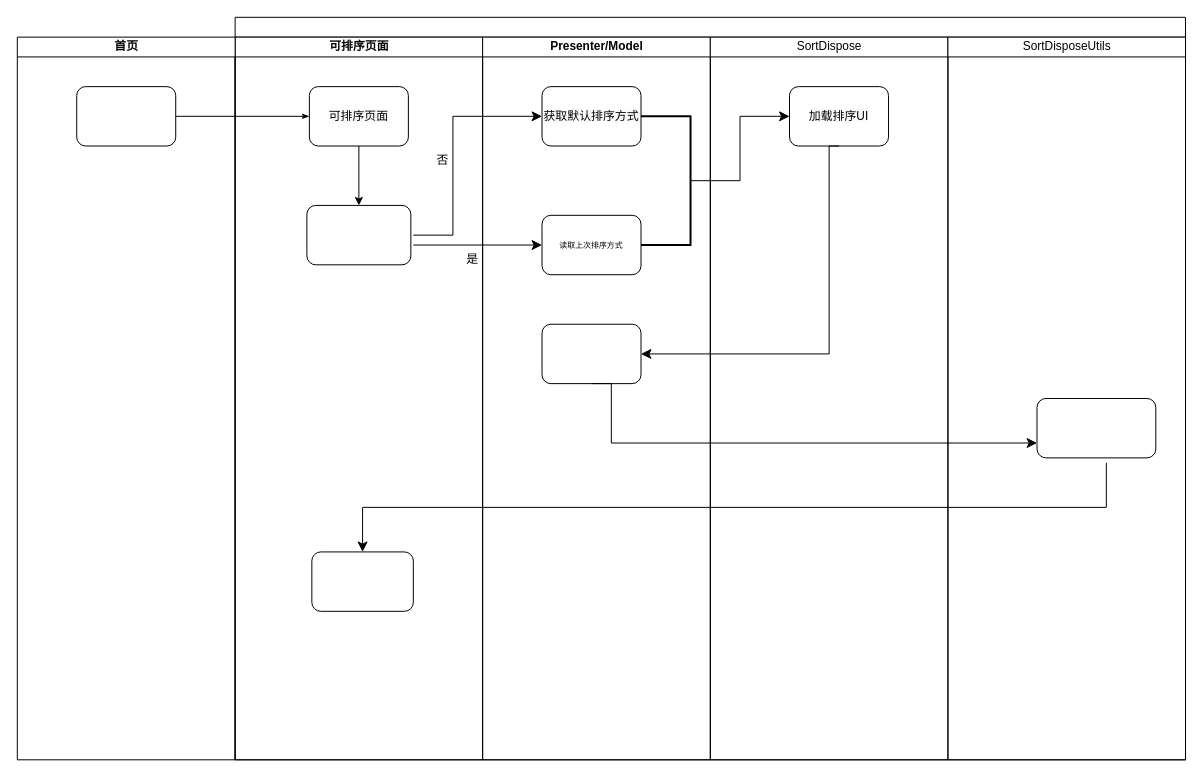
Image size: 1203x777. Some labels were removed from this diagram. The centre of each missing label's shape, as x and y in pixels:
"加载或刷新当前页面" belongs at [362,581].
"数据排序及组装成AbsItem" belongs at [1096,427].
"是否首次进入" belongs at [358,234].
"空间清理首页" belongs at [126,116].
"读取扫描器对应数据" belongs at [591,353].
